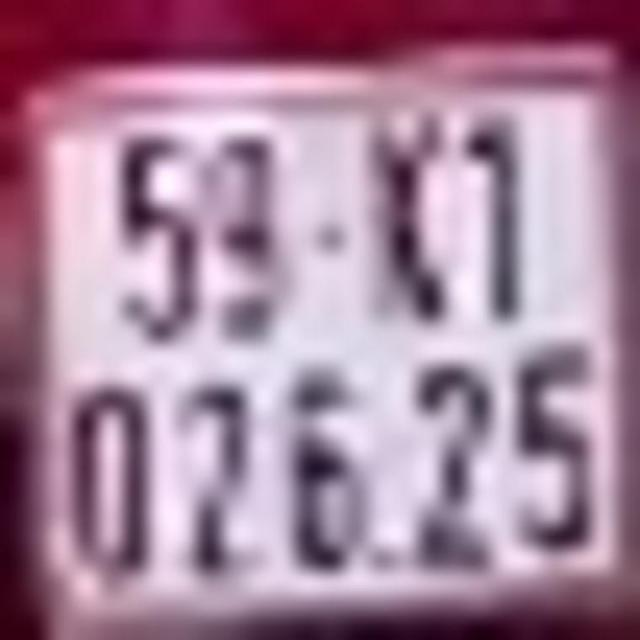0: (69, 385, 151, 586)
1: (473, 114, 531, 314)
2: (420, 358, 497, 572)
3: (216, 136, 278, 344)
5: (126, 136, 206, 344), (520, 350, 598, 558)
6: (284, 381, 362, 568)
7: (178, 379, 246, 584)
K: (361, 117, 452, 320)
